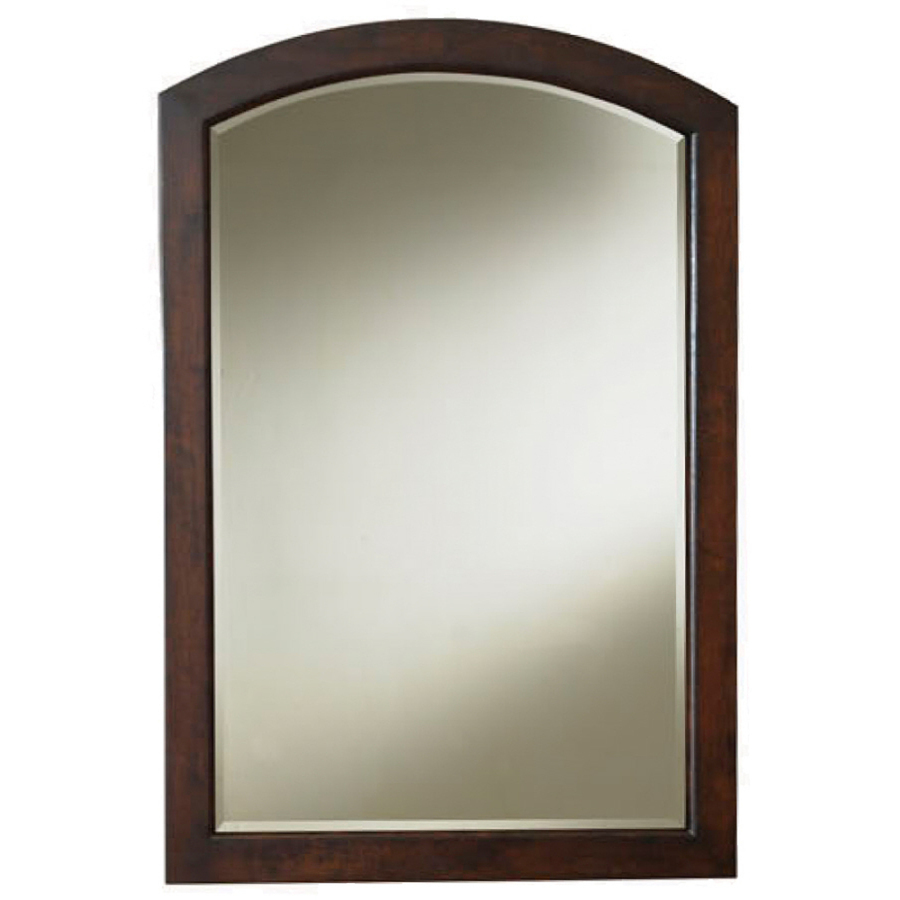Nonrec_Glass: (103, 23, 783, 891)
